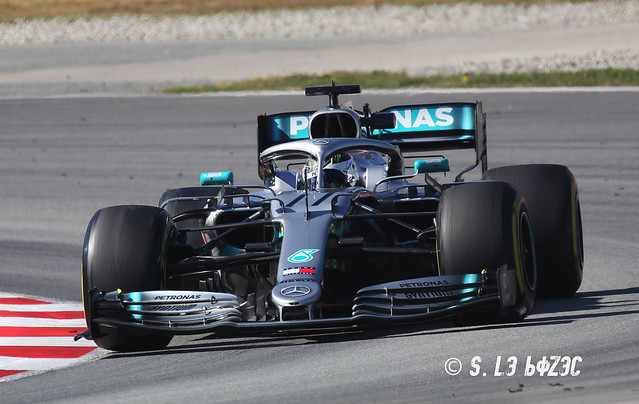F1 Car: (77, 81, 594, 359)
